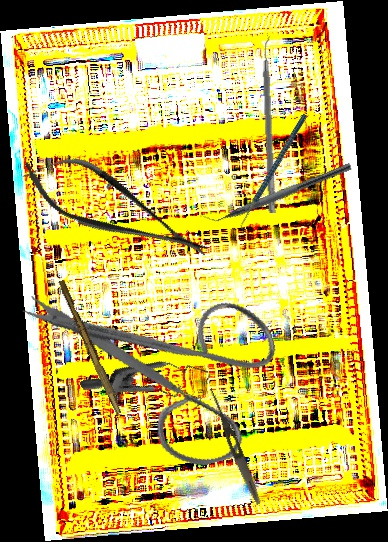Chopper: (209, 113, 339, 236), (198, 152, 353, 232)
Dressing Forceps: (205, 386, 264, 507)
Iris Scissors: (17, 238, 300, 502)
Micro Scissor: (12, 136, 219, 282)
Scalpel Handle: (55, 279, 126, 415)
Spatula Surgical: (259, 35, 284, 214)
Speculum: (79, 322, 221, 454)
